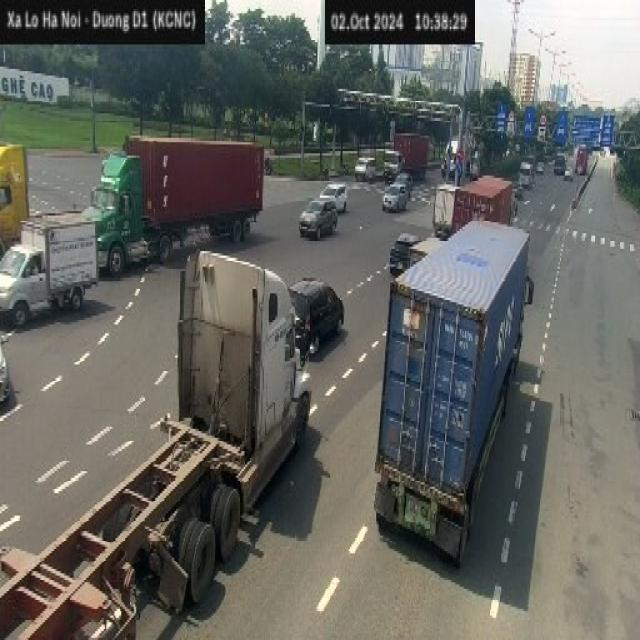car: (280, 272, 350, 358), (298, 195, 338, 238), (390, 228, 419, 275), (318, 182, 348, 211), (382, 182, 408, 211)
container-truck: (0, 248, 318, 640), (372, 216, 534, 566), (89, 141, 272, 262)
truck: (0, 209, 99, 327), (435, 178, 458, 237)
